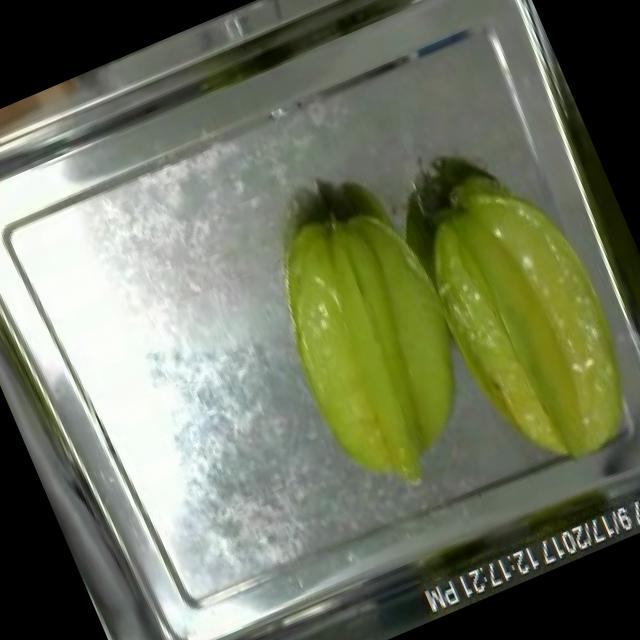fruit: (230, 164, 522, 522), (375, 127, 640, 505)
